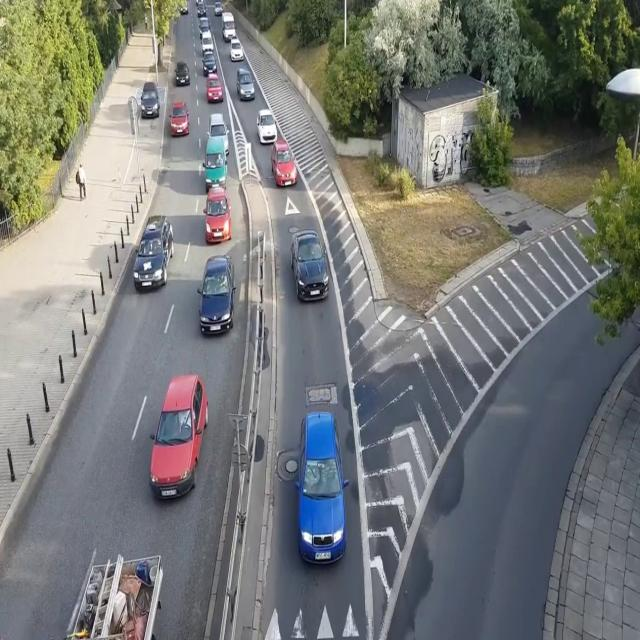car: (295, 411, 349, 564), (147, 372, 210, 502), (133, 214, 175, 291), (196, 256, 236, 336), (290, 225, 330, 304), (202, 186, 232, 242), (271, 139, 298, 187), (207, 113, 230, 156), (255, 110, 278, 144), (140, 82, 160, 119), (169, 101, 190, 136), (206, 74, 223, 102), (174, 61, 190, 86), (202, 52, 217, 77), (229, 38, 244, 62), (214, 2, 223, 16), (197, 3, 206, 16), (180, 3, 189, 14), (195, 0, 204, 4)
truck: (58, 552, 163, 640)
van: (202, 137, 228, 191), (237, 66, 256, 100), (221, 13, 237, 42), (198, 16, 212, 38), (201, 33, 214, 55)
